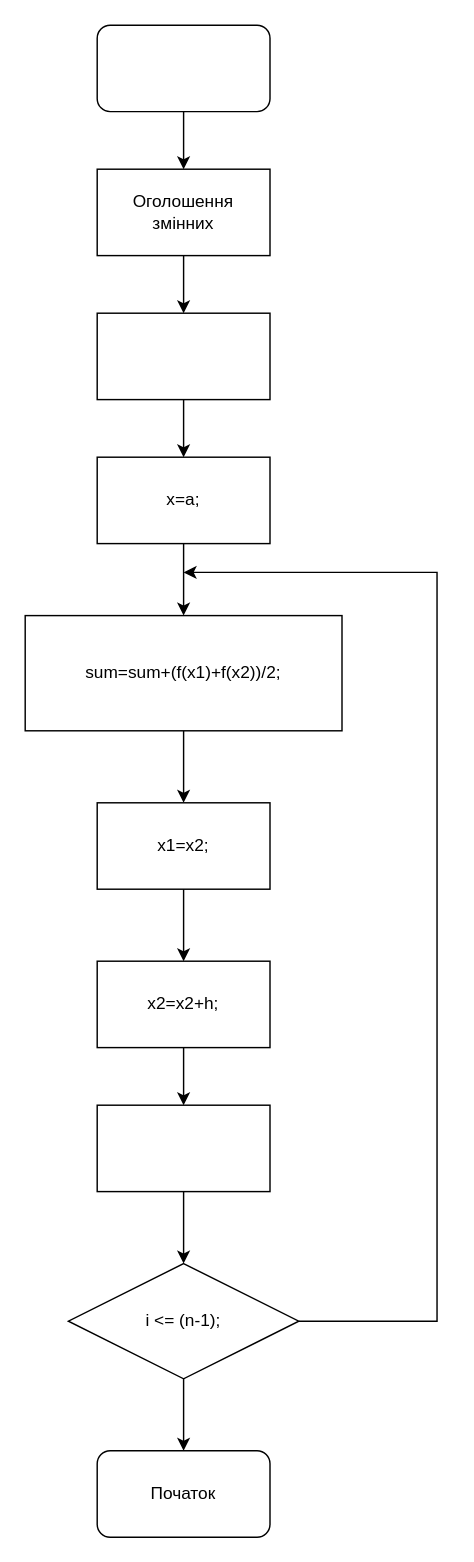
This 474x1562 diagram has some shape labels left out. The centre of each missing label's shape, as x and y in pixels:
h=(b-a)/n;: point 183,356
i++;: point 183,1148
Старт: point 183,68
